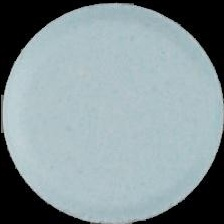55154-5684: (0, 0, 224, 224)
